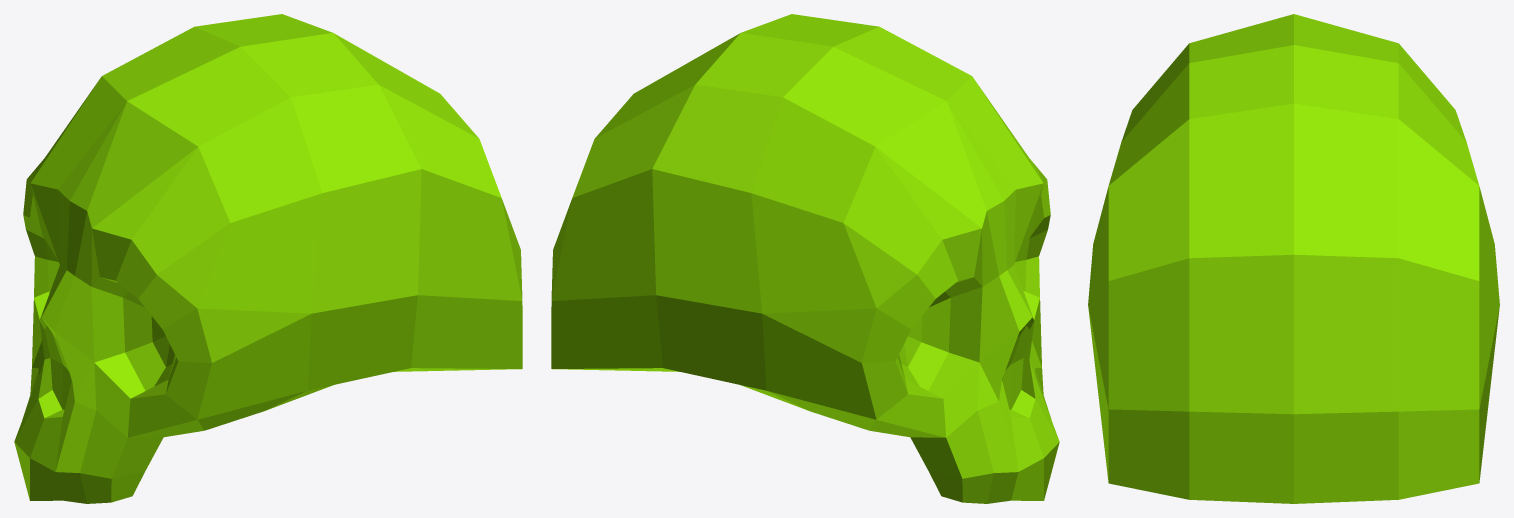
File: Skull_A1_Big.fbx
The picture shows the model from 3 angles, left to right: view 1: azimuth 30°, elevation 25°; view 2: azimuth 150°, elevation 25°; view 3: azimuth 270°, elevation 25°; orthographic projection. The views are drawn at different scales.
Parts seen in each view (by area): view 1: Skull_A1_Big; view 2: Skull_A1_Big; view 3: Skull_A1_Big.
Boxes of the visible parts, x1=… form: Skull_A1_Big: x1=14, y1=14, x2=522, y2=503; Skull_A1_Big: x1=551, y1=14, x2=1059, y2=503; Skull_A1_Big: x1=1088, y1=14, x2=1499, y2=503.
Size of the model in its own units: 194 by 166 by 141.
